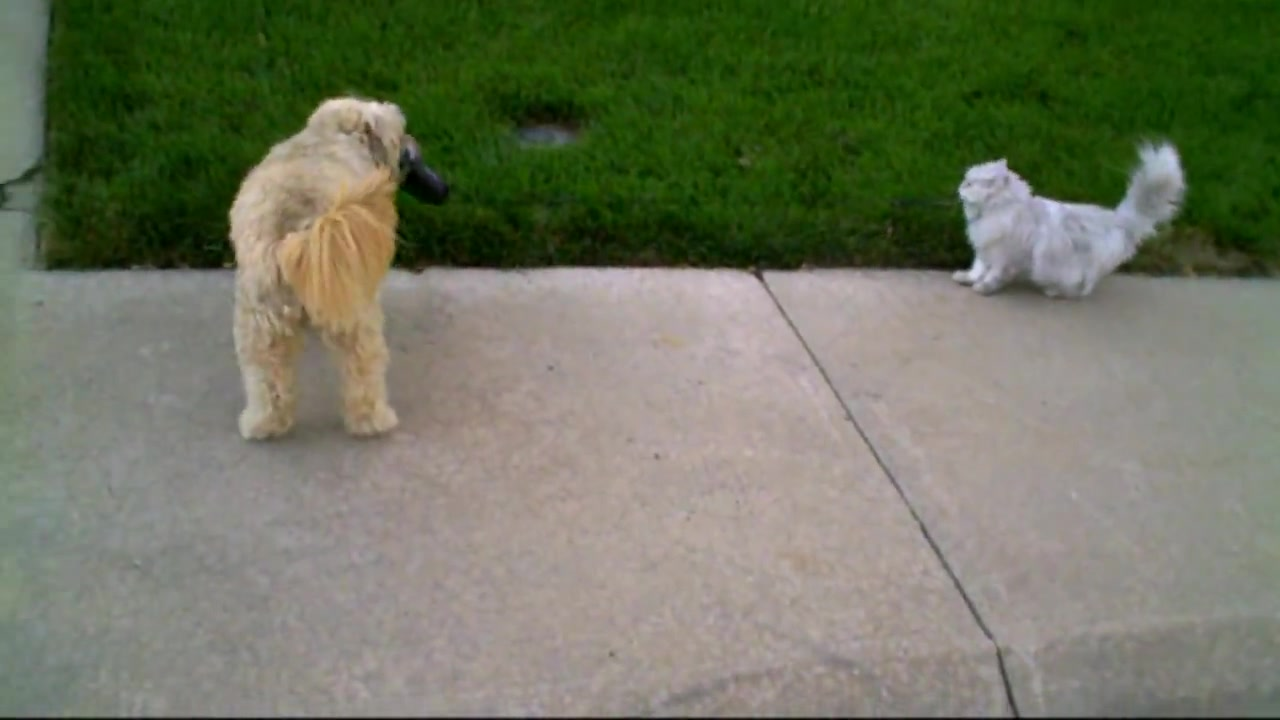dog: (225, 93, 425, 443)
